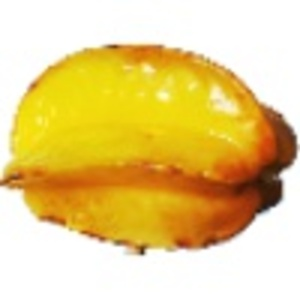carambola: (1, 41, 300, 258)
